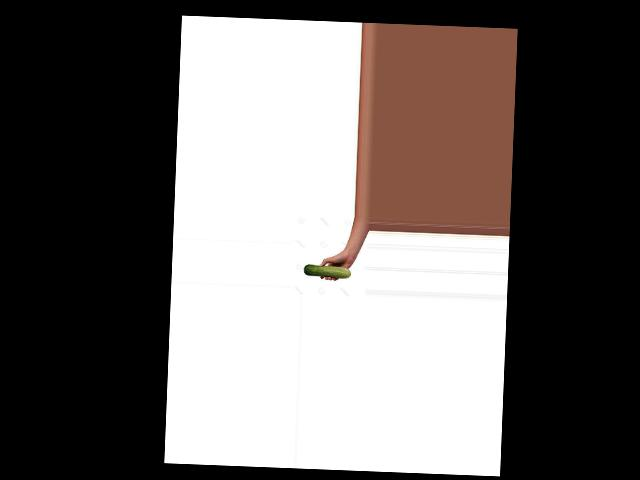cucumber: (303, 263, 352, 278)
